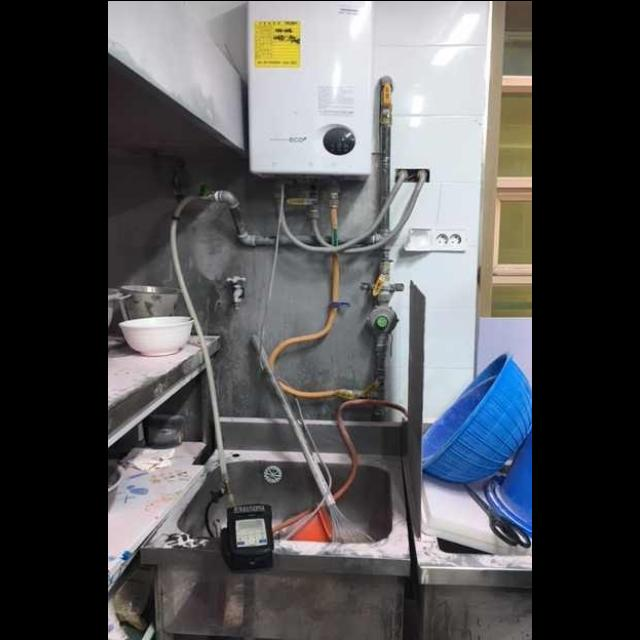Boiler: (233, 3, 391, 189)
